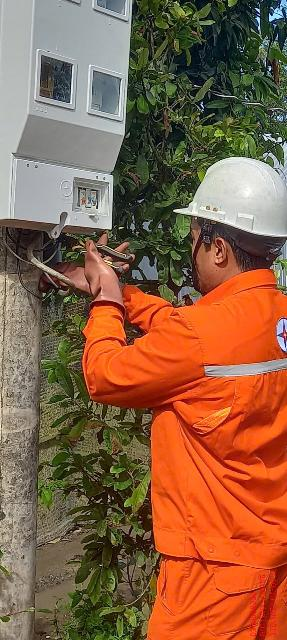gloves: (25, 254, 133, 310), (79, 238, 139, 313)
helmet: (184, 146, 285, 243)
